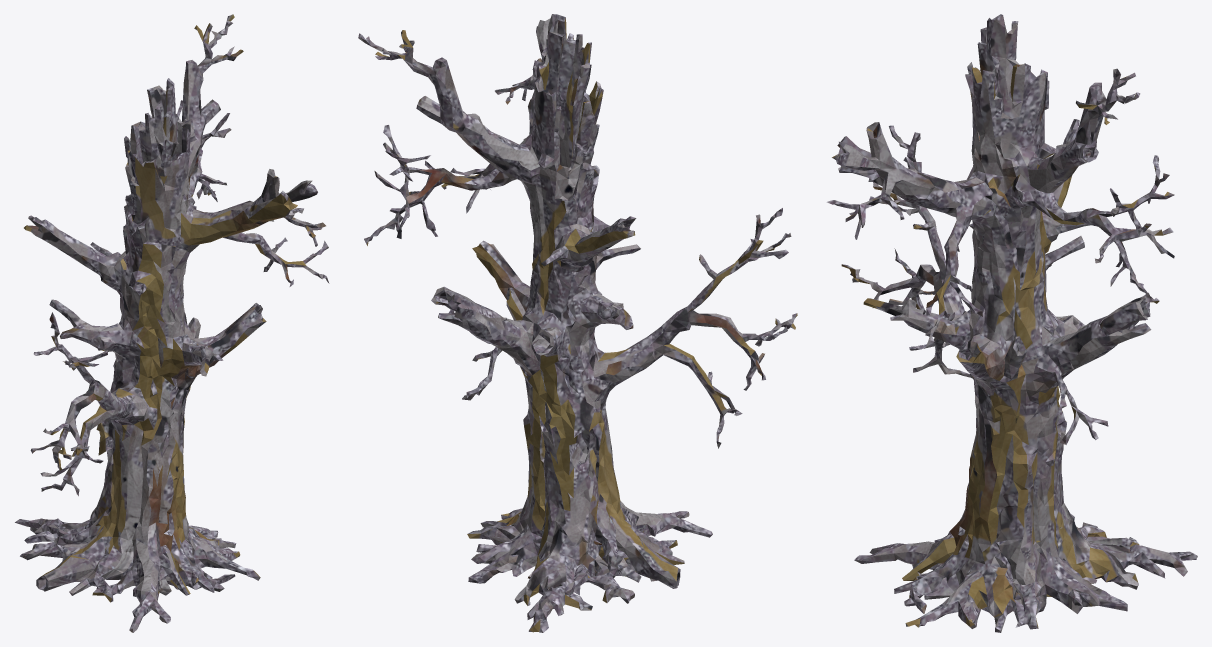
File: deadtree.obj
The picture shows the model from 3 angles, left to right: view 1: azimuth 30°, elevation 25°; view 2: azimuth 150°, elevation 25°; view 3: azimuth 270°, elevation 25°; orthographic projection. The views are drawn at different scales.
Visible parts, largest first — view 1: deadtree; view 2: deadtree; view 3: deadtree.
Part boxes in pixels (bbox=[...]): deadtree: bbox=[15, 14, 329, 632]; deadtree: bbox=[358, 14, 797, 632]; deadtree: bbox=[826, 14, 1197, 632].
Size of the model in its own units: 5.31 by 8 by 4.54.
1 material, 1 textured.
